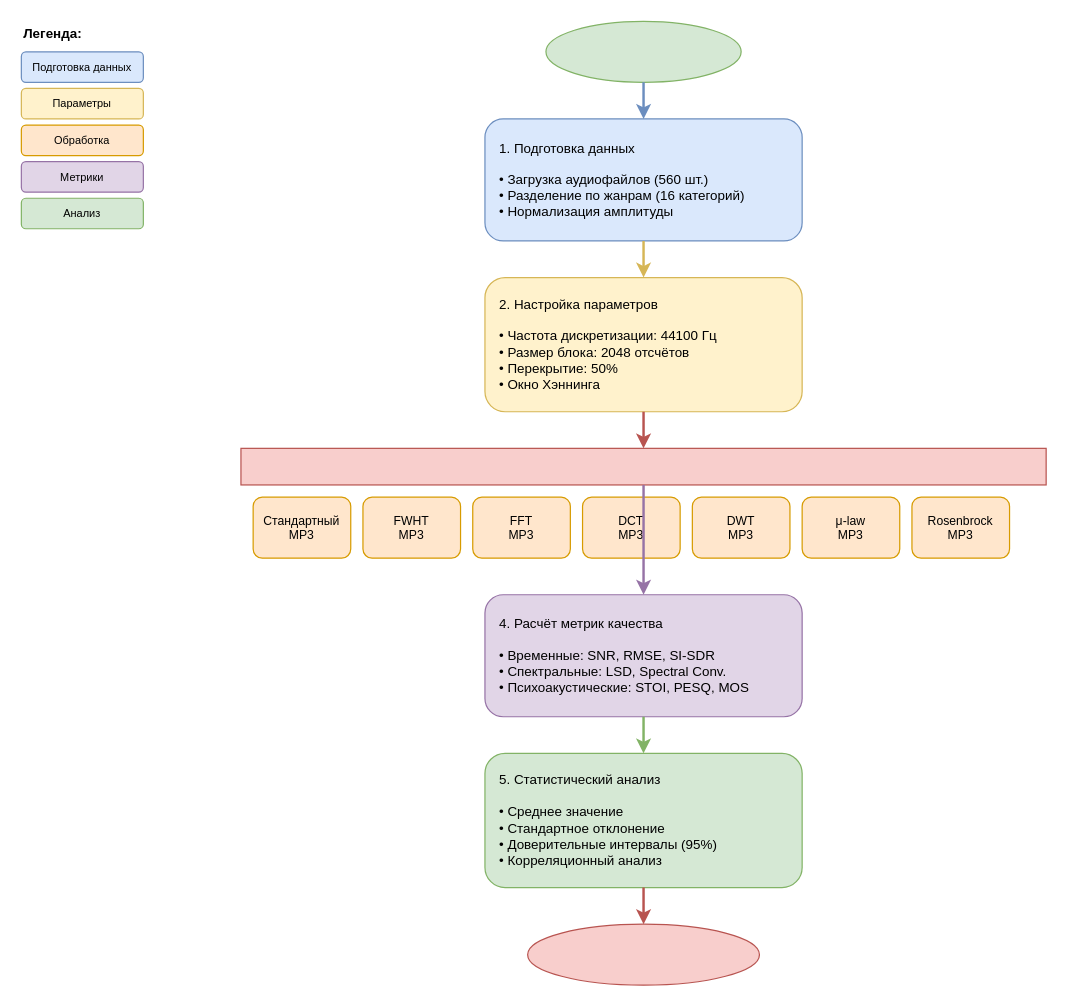
The diagram is 1068 pixels wide and 1007 high, and some of its shapes have lost their labels. The shapes that lost their labels are listed below. From the top down, each one's centre as x and y in pixels, then its label:
At (x=643, y=51): "Начало эксперимента".
At (x=643, y=466): "3. Применение методов обработки".
At (x=642, y=954): "Формирование выводов и рекомендаций".
